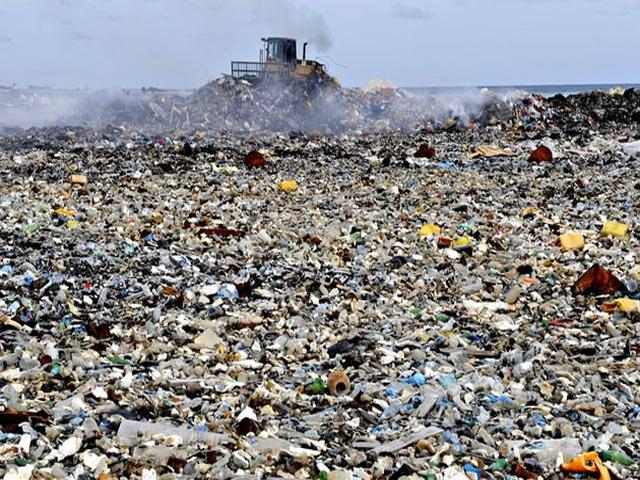garbage: (11, 139, 636, 470)
